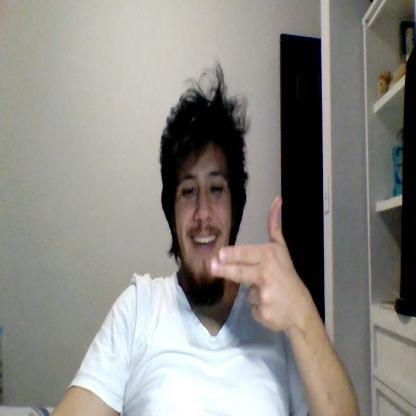H: (210, 198, 293, 329)
